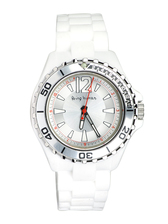watch: (30, 13, 147, 216)
